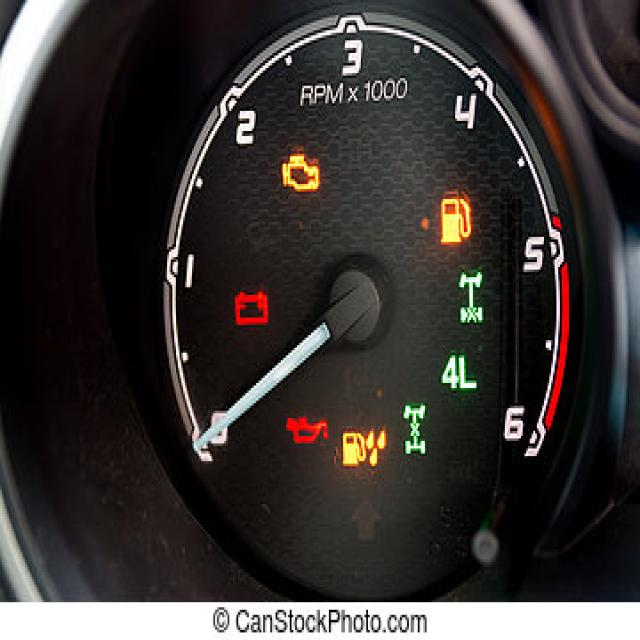Charging System Issue: (233, 290, 272, 328)
Check Engine: (281, 151, 322, 197)
Low Engine Oil Warning Light: (284, 413, 330, 446)
